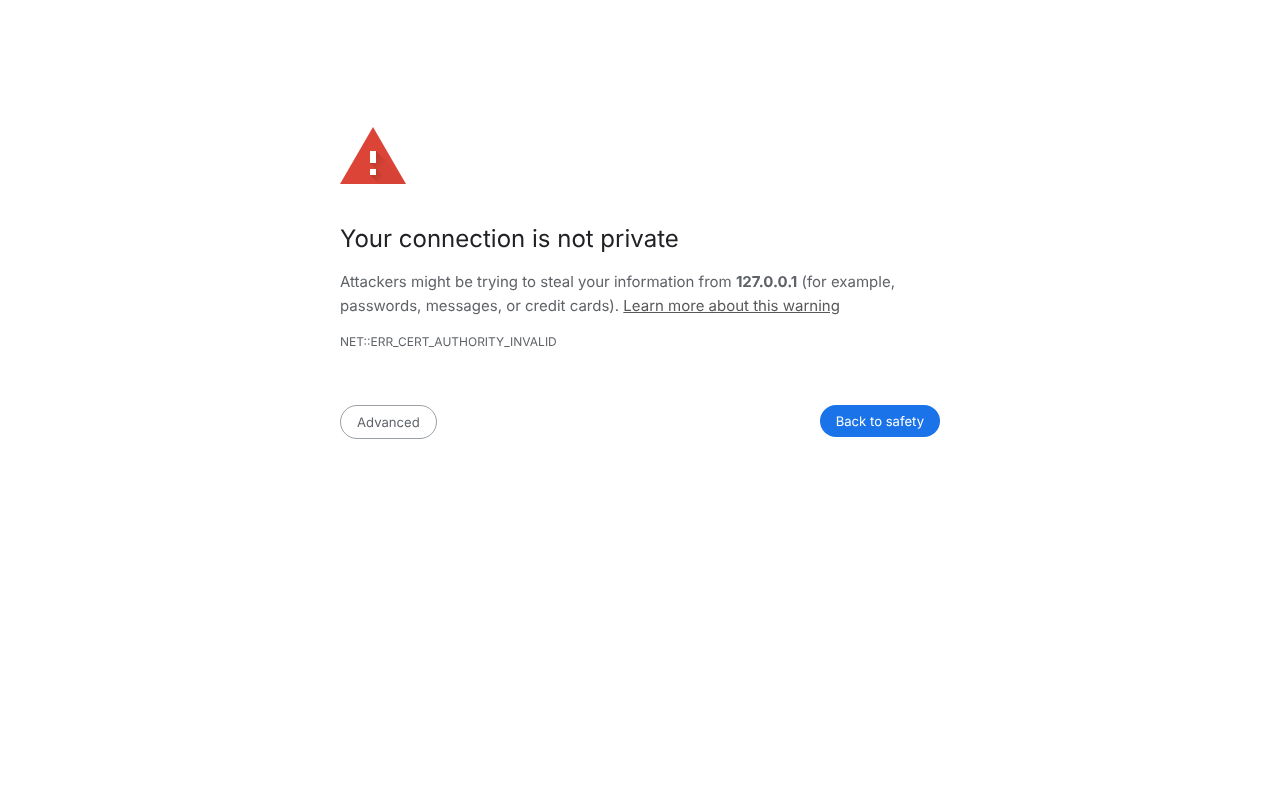ERROR_TEXT: (340, 275, 894, 315), (341, 229, 678, 252)
STATUS_INDICATOR: (341, 337, 556, 347)
